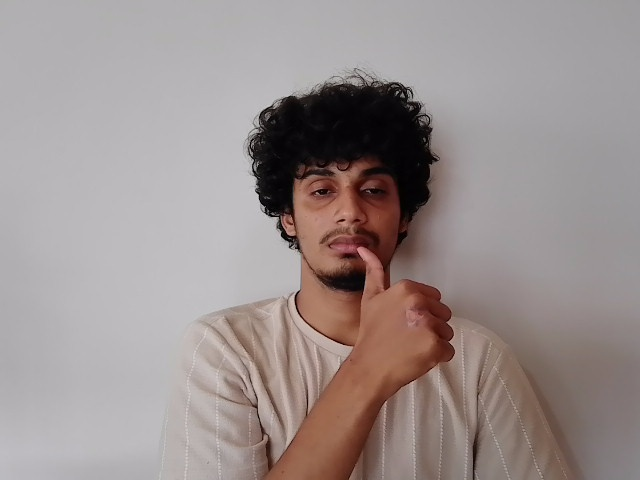drink: (277, 149, 468, 376)
